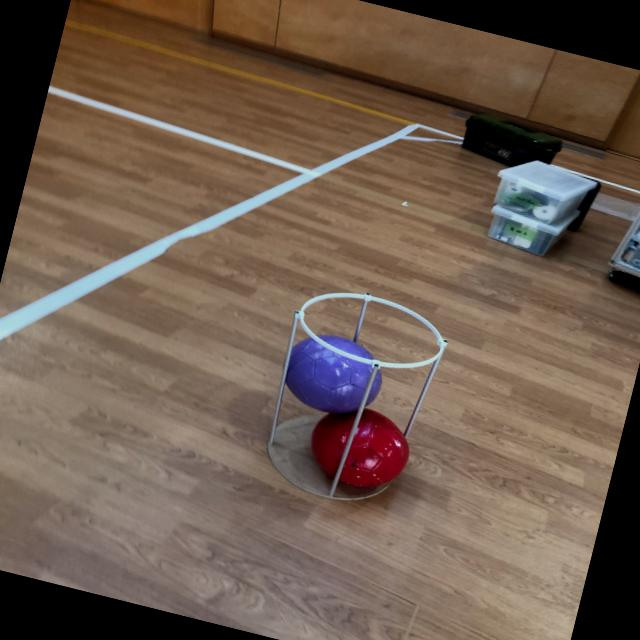purple_ball: (275, 328, 390, 424)
red_ball: (298, 394, 414, 498)
